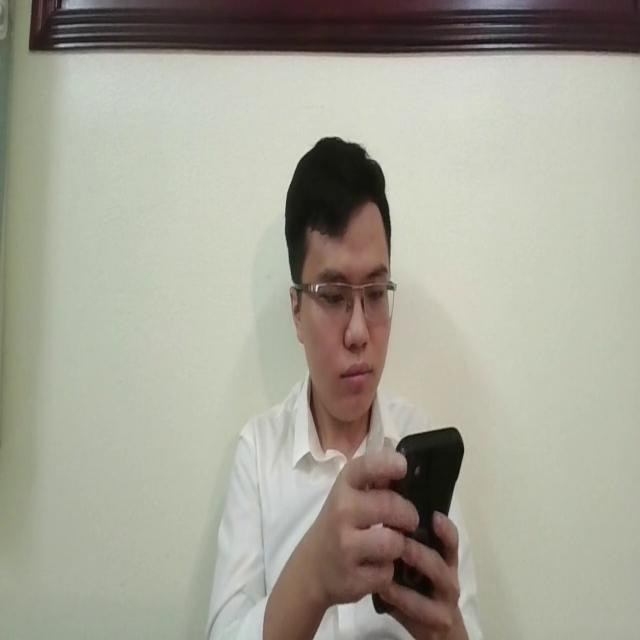phone: (369, 420, 465, 604)
student: (211, 130, 481, 640)
